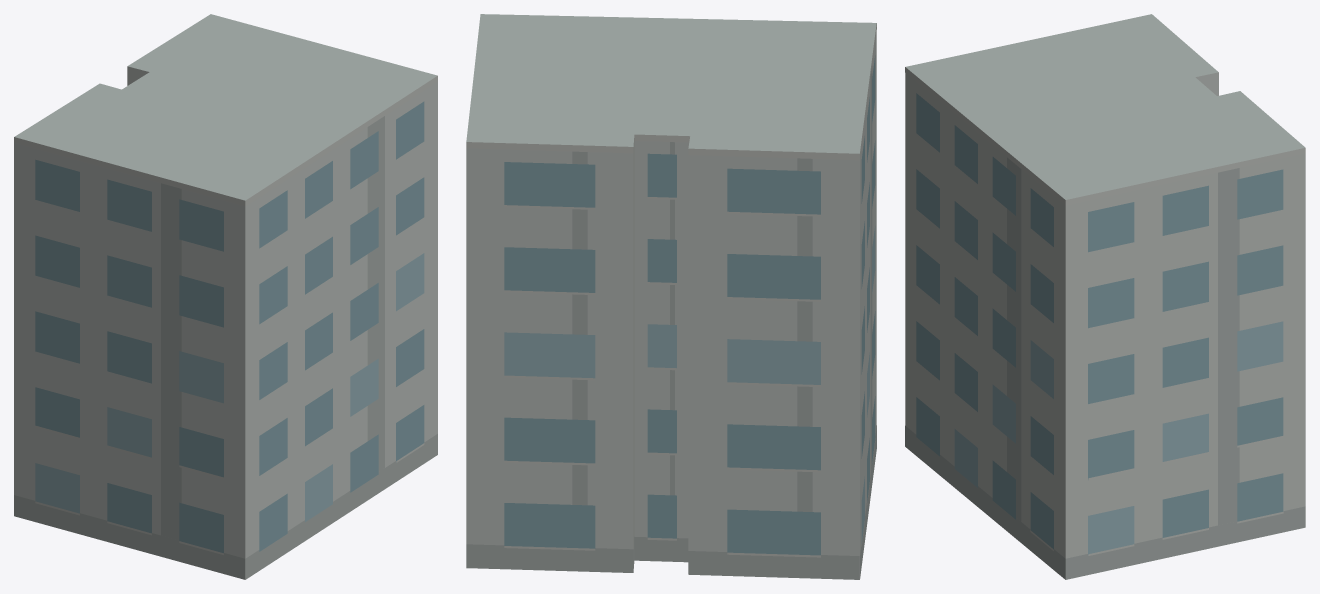
File: survey-upis-32809478.glb
3 views of the same model, side by side, from view 1: azimuth 30°, elevation 25°; view 2: azimuth 150°, elevation 25°; view 3: azimuth 270°, elevation 25° (orthographic). The views are drawn at different scales.
Parts seen in each view (by area): view 1: survey-upis-32809478.tmp; view 2: survey-upis-32809478.tmp; view 3: survey-upis-32809478.tmp.
Boxes of the visible parts, box(x1,y1,x2,y2) form: survey-upis-32809478.tmp: box(14, 14, 437, 579); survey-upis-32809478.tmp: box(466, 14, 876, 579); survey-upis-32809478.tmp: box(905, 14, 1305, 579).
Size of the model in its own units: 16.82 by 16 by 15.3.
